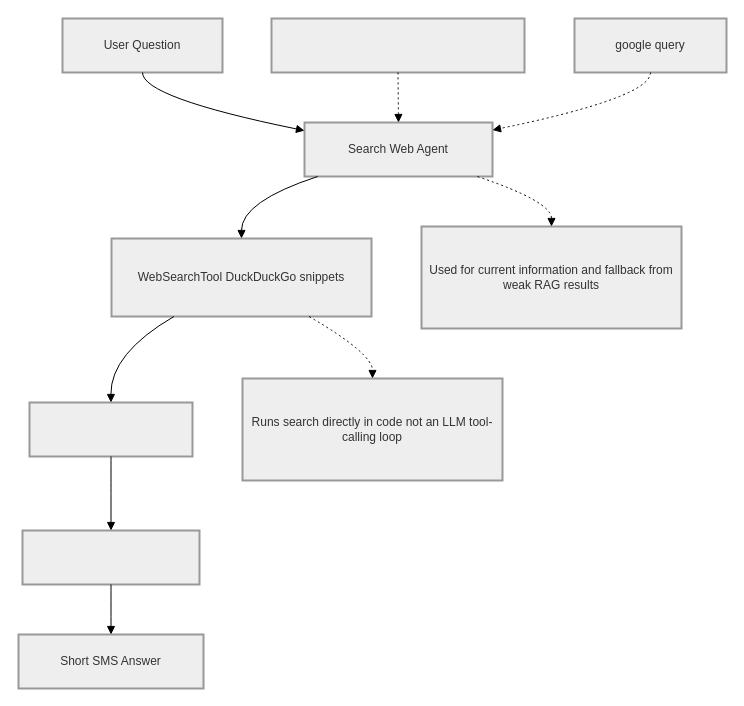
Some shapes in this 744 by 706 pixel diagram are drawn without their labels. The centre of each missing label's shape, as x and y in pixels:
LLM Summarizer: the point at 110,557
Search Results: the point at 110,429
Unknown route RAG empty: the point at 397,45
